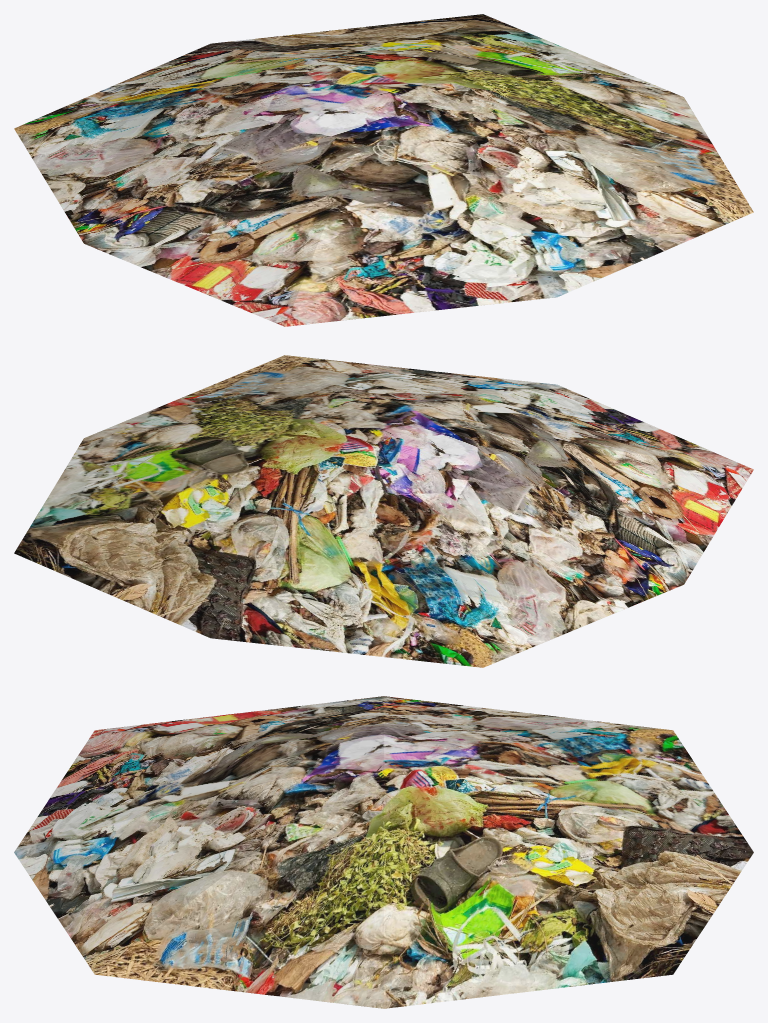
The model's file is lixo.fbx.
The picture shows the model from 3 angles, top to bottom: view 1: azimuth 30°, elevation 25°; view 2: azimuth 150°, elevation 25°; view 3: azimuth 270°, elevation 25°; orthographic projection. The views are drawn at different scales.
Visible parts, largest first — view 1: Cube; view 2: Cube; view 3: Cube.
Part boxes in pixels (<box>): Cube: <box>14,14,753,326</box>; Cube: <box>14,355,753,667</box>; Cube: <box>14,696,753,1008</box>.
Size of the model in its own units: 584 by 73.38 by 584.
Materials: 1 (1 with a texture image).
